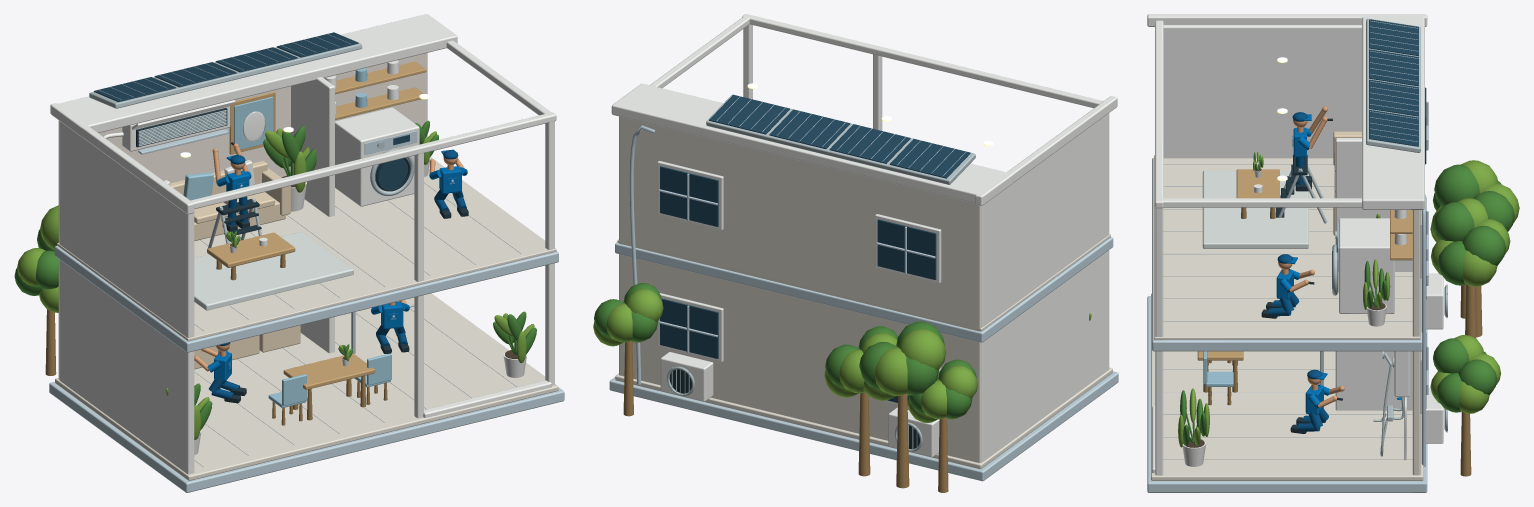
File: minh-nhat-house-prototype.glb
The picture shows the model from 3 angles, left to right: view 1: azimuth 30°, elevation 25°; view 2: azimuth 150°, elevation 25°; view 3: azimuth 270°, elevation 25°; orthographic projection. The views are drawn at different scales.
Visible parts, largest first — view 1: Static_f4f6f3, Static_e9e5da, Static_c5d9e3, Static_eee9df, Static_e0e9e7, Static_cba874, Static_254b61, Static_b9c9cd, Static_e9d9bd, Static_4a873c, Static_9fc9da, Static_79a743 (+5 smaller); view 2: Static_eee9df, Static_f4f6f3, Static_254b61, Static_c5d9e3, Static_79a743, Static_4a873c, Static_e9e5da, Static_a98757, Static_b9c9cd, Static_233944; view 3: Static_f4f6f3, Static_e9e5da, Static_c5d9e3, Static_4a873c, Static_254b61, Static_79a743, Static_e0e9e7, Static_b9c9cd, Static_cba874, Static_eee9df, Static_a98757, Static_0076bd (+5 smaller).
Boxes of the visible parts, x1=… form: Static_f4f6f3: x1=50, y1=14, x2=556, y2=474; Static_e9e5da: x1=55, y1=157, x2=558, y2=480; Static_c5d9e3: x1=49, y1=34, x2=564, y2=492; Static_eee9df: x1=58, y1=53, x2=427, y2=379; Static_e0e9e7: x1=194, y1=232, x2=353, y2=310; Static_cba874: x1=207, y1=61, x2=426, y2=389; Static_254b61: x1=94, y1=32, x2=409, y2=190; Static_b9c9cd: x1=89, y1=43, x2=414, y2=353; Static_e9d9bd: x1=170, y1=160, x2=300, y2=369; Static_4a873c: x1=14, y1=120, x2=536, y2=430; Static_9fc9da: x1=183, y1=68, x2=391, y2=407; Static_79a743: x1=17, y1=122, x2=534, y2=439; Static_eee9df: x1=619, y1=116, x2=981, y2=462; Static_f4f6f3: x1=611, y1=14, x2=1117, y2=462; Static_254b61: x1=660, y1=94, x2=970, y2=404; Static_c5d9e3: x1=609, y1=96, x2=1118, y2=481; Static_79a743: x1=593, y1=288, x2=1091, y2=422; Static_4a873c: x1=594, y1=283, x2=976, y2=418; Static_e9e5da: x1=615, y1=234, x2=1112, y2=469; Static_a98757: x1=623, y1=340, x2=948, y2=492; Static_b9c9cd: x1=667, y1=94, x2=975, y2=451; Static_233944: x1=669, y1=369, x2=919, y2=448; Static_f4f6f3: x1=1147, y1=14, x2=1443, y2=475; Static_e9e5da: x1=1151, y1=155, x2=1423, y2=480; Static_c5d9e3: x1=1147, y1=20, x2=1428, y2=492; Static_4a873c: x1=1180, y1=152, x2=1514, y2=445; Static_254b61: x1=1336, y1=19, x2=1426, y2=408; Static_79a743: x1=1178, y1=152, x2=1519, y2=447; Static_e0e9e7: x1=1202, y1=170, x2=1308, y2=248; Static_b9c9cd: x1=1278, y1=18, x2=1447, y2=456; Static_cba874: x1=1197, y1=169, x2=1412, y2=360; Static_eee9df: x1=1412, y1=210, x2=1420, y2=475; Static_a98757: x1=1203, y1=207, x2=1482, y2=476; Static_0076bd: x1=1276, y1=114, x2=1401, y2=415.
Bounding box in the file's own units: 9.45 × 7.03 × 7.71.
22 materials, 1 textured.
